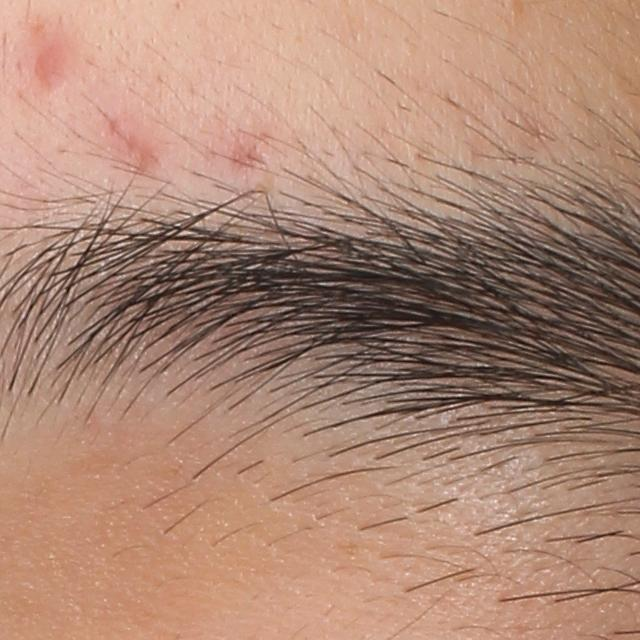atrophic_scar: (35, 38, 73, 94)
